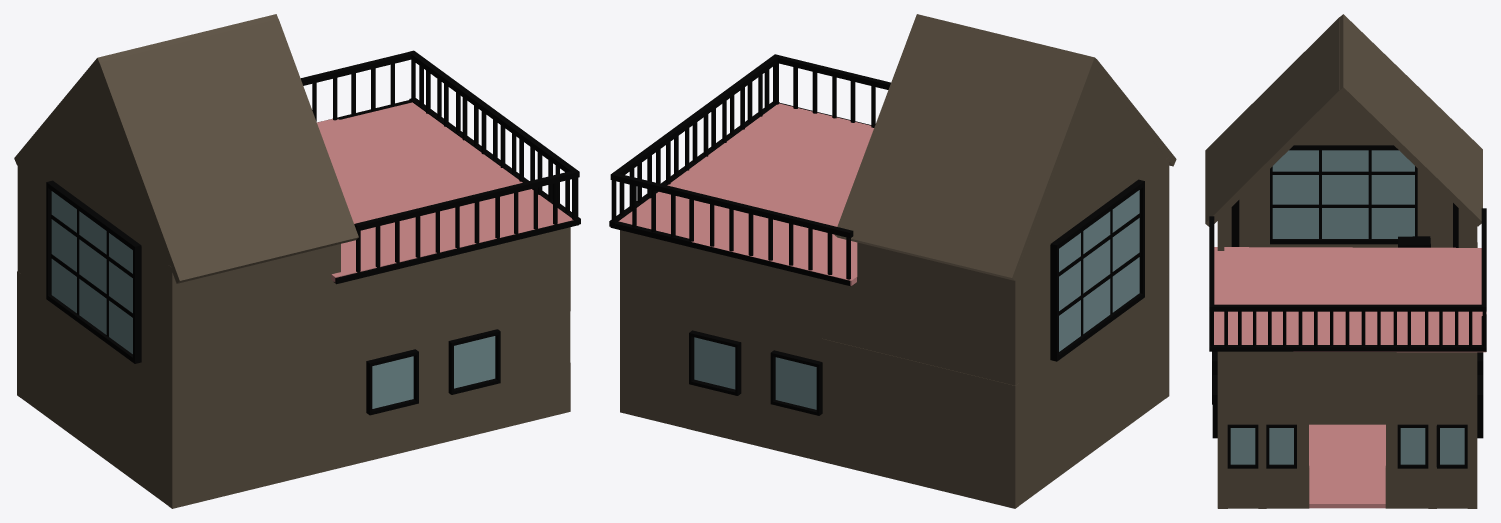
File: House 1.fbx
3 renders of one model, left to right at view 1: azimuth 30°, elevation 25°; view 2: azimuth 150°, elevation 25°; view 3: azimuth 270°, elevation 25°, orthographic. The views are drawn at different scales.
Parts seen in each view (by area): view 1: Cube (63), Cube (60), Cube (8), Cube (61), Cube (1), Prism, Cube (53), Cube (90), Cube (78), Cube (55), Cube (69), Cube (54) (+15 smaller); view 2: Cube (62), Cube (9), Cube (58), Cube (61), Cube (1), Cube (57), Prism, Cube (78), Cube (94), Cube (59), Cube (69), Cube (56) (+13 smaller); view 3: Cube (61), Cube (62), Cube (63), Cube (78), Cube (31), Cube, Cube (17), Cube (68), Cube (35), Cube (18), Prism, Cube (69) (+22 smaller).
Boxes of the visible parts, x1,y1,x2,y2 form: Cube (63): (97, 19, 358, 283); Cube (60): (168, 227, 570, 384); Cube (8): (168, 338, 366, 508); Cube (61): (317, 102, 573, 282); Cube (1): (21, 276, 168, 505); Prism: (20, 68, 169, 265); Cube (53): (497, 288, 570, 429); Cube (90): (168, 244, 340, 374); Cube (78): (51, 191, 132, 353); Cube (55): (364, 384, 497, 461); Cube (69): (17, 159, 51, 293); Cube (54): (364, 306, 497, 362); Cube (62): (834, 14, 1097, 280); Cube (9): (822, 338, 1019, 508); Cube (58): (686, 246, 1012, 384); Cube (61): (610, 103, 873, 285); Cube (1): (1019, 278, 1165, 505); Cube (57): (620, 230, 690, 428); Prism: (1018, 68, 1166, 268); Cube (78): (1059, 190, 1139, 351); Cube (94): (857, 242, 1012, 384); Cube (59): (686, 379, 821, 461); Cube (69): (1012, 245, 1050, 385); Cube (56): (741, 319, 771, 446); Cube (61): (1214, 247, 1486, 352); Cube (62): (1338, 14, 1482, 226); Cube (63): (1205, 17, 1344, 226); Cube (78): (1272, 150, 1414, 238); Cube (31): (1386, 352, 1477, 424); Cube: (1309, 424, 1385, 508); Cube (17): (1218, 351, 1309, 424); Cube (68): (1301, 352, 1393, 424); Cube (35): (1385, 466, 1476, 508); Cube (18): (1218, 466, 1309, 508); Prism: (1294, 96, 1393, 145); Cube (69): (1417, 169, 1470, 245).
Bounding box in the file's own units: 1706 × 1577 × 1211.
